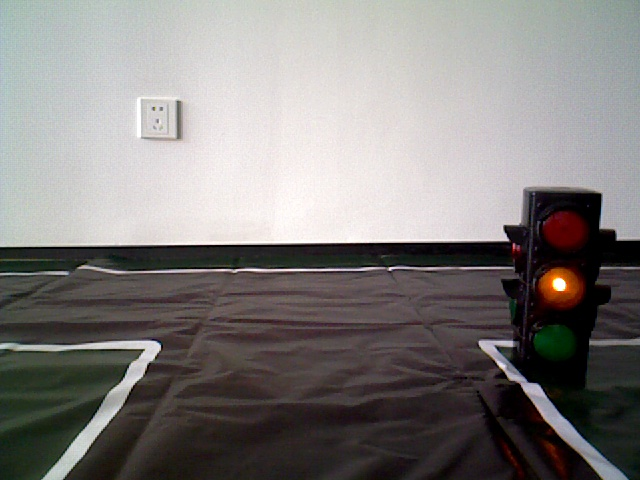yellow: (515, 181, 603, 373)
